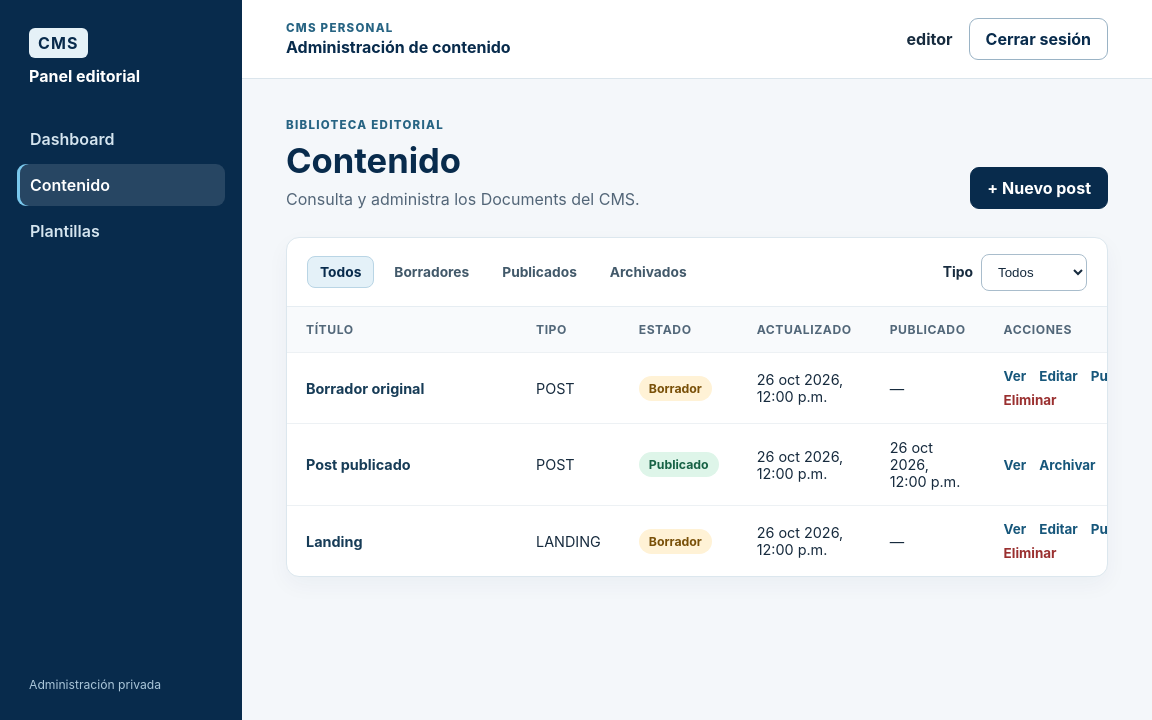
Test: Listado de Documents › usa filtros status y content_type del backend
Expected: the text "Post publicado" is shown, [287,424,517,506]
Click the button "Borradores". click: click(432, 272)
box: [381,256,482,288]
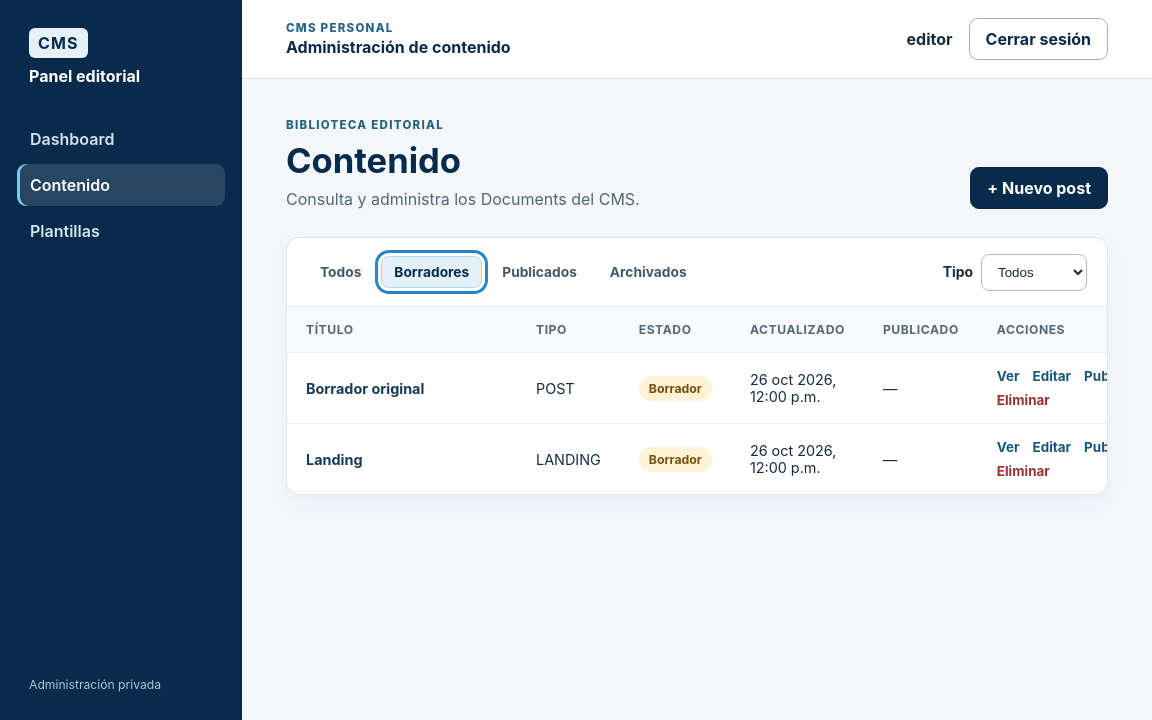
Expected: the text "Post publicado" is gone
Select "POST" in the dropdown labelled "Tipo". click: (1034, 272)
box: [981,254,1087,290]
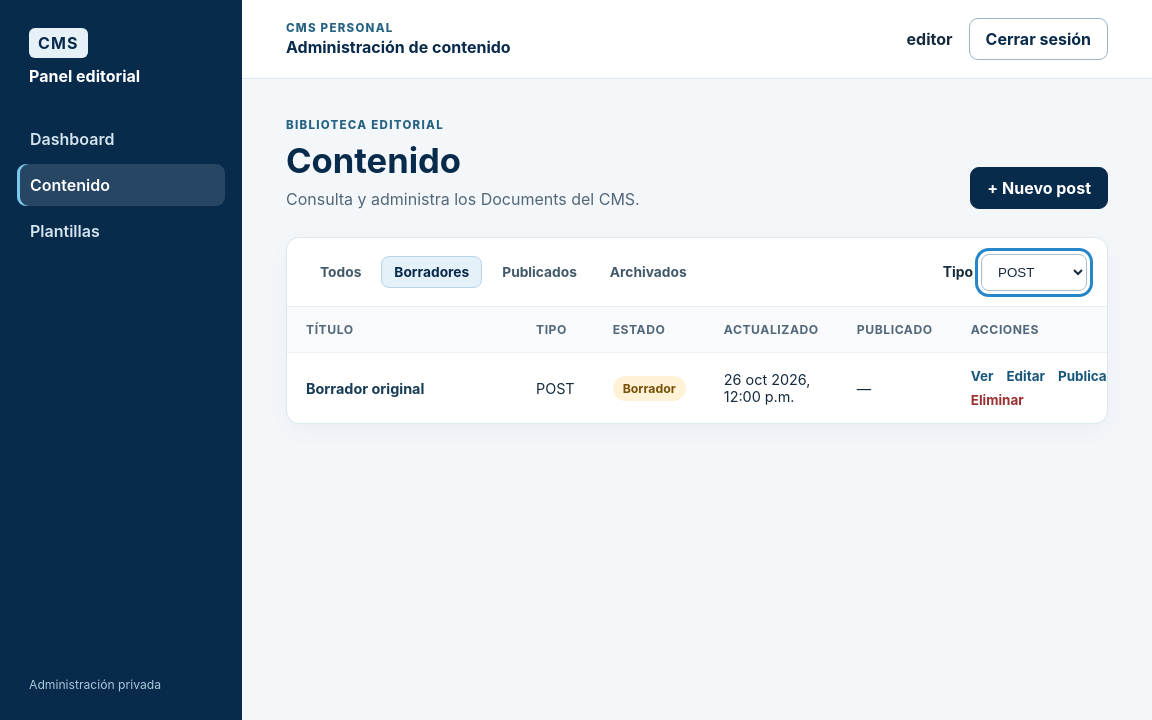
Expected: the text "Landing" is gone
